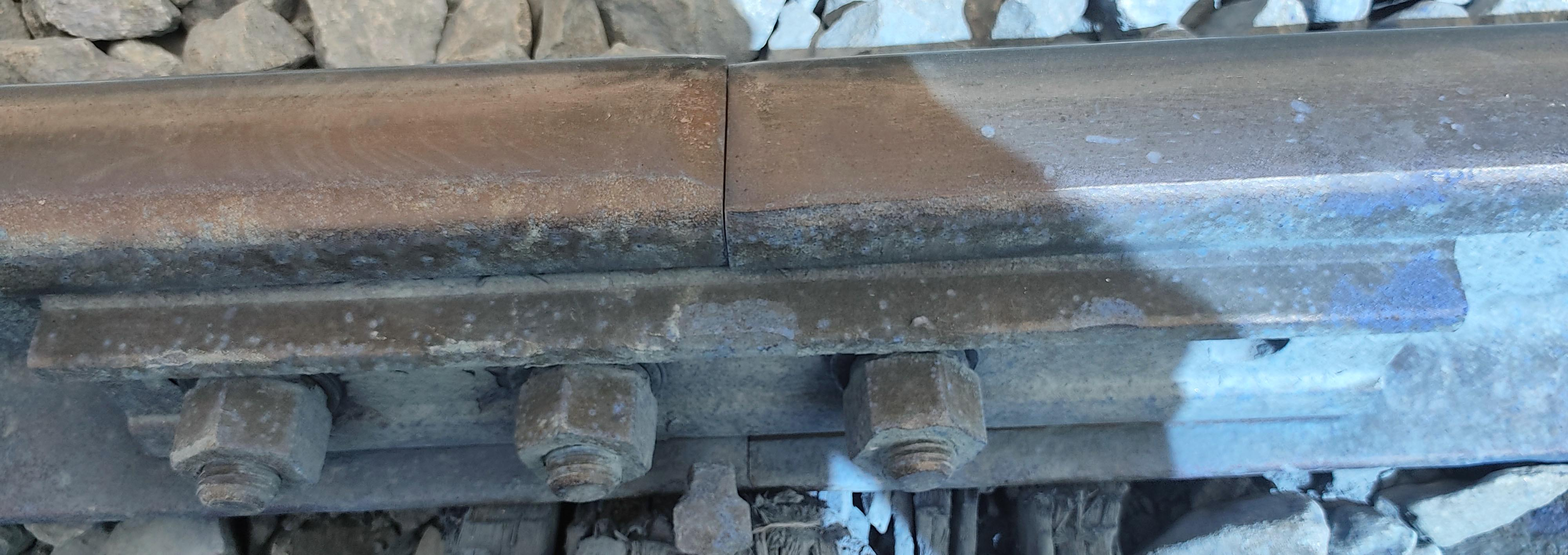duan lie: (692, 39, 786, 300)
